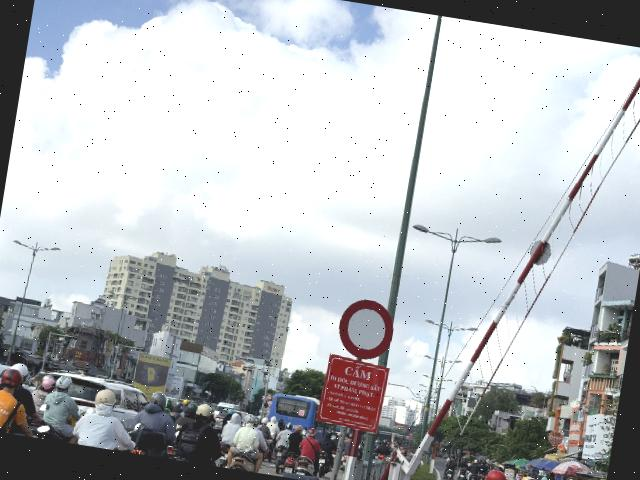duong-cam: (334, 296, 398, 363)
